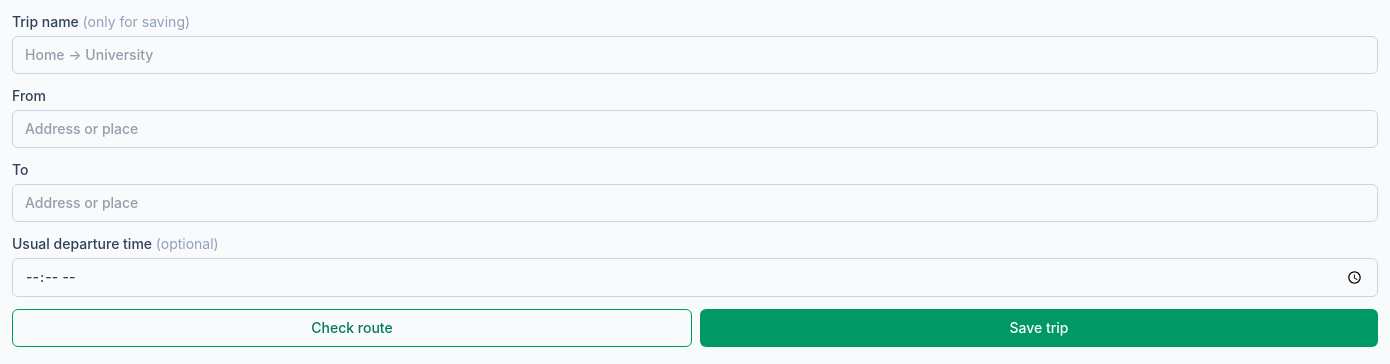
Scenario: AddTripForm › Check route (without saving) › disables both buttons while checking
The width and height of the screenshot is (1390, 364).
Type "A" into the field labelled "From" at (695, 129), box x1=12 y1=110 x2=1378 y2=148
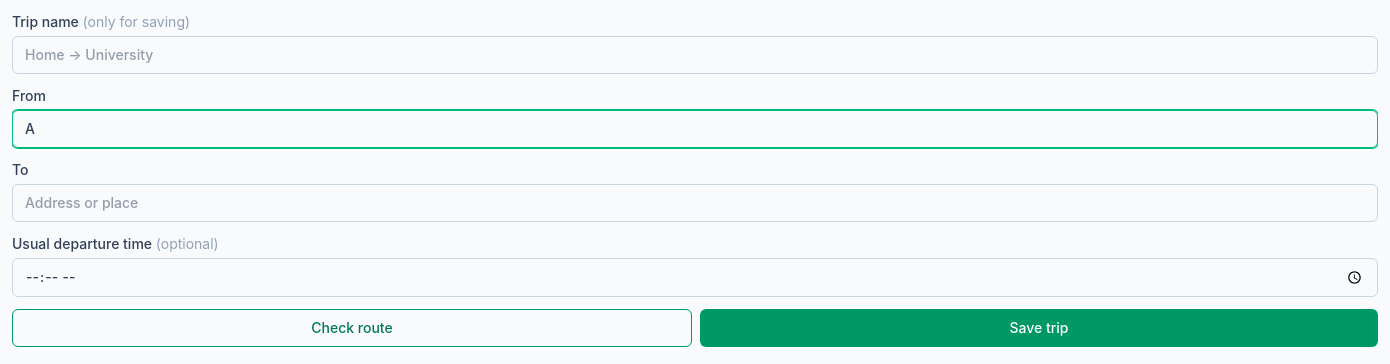
Type "B" into the field labelled "To" at (695, 203), box x1=12 y1=184 x2=1378 y2=222
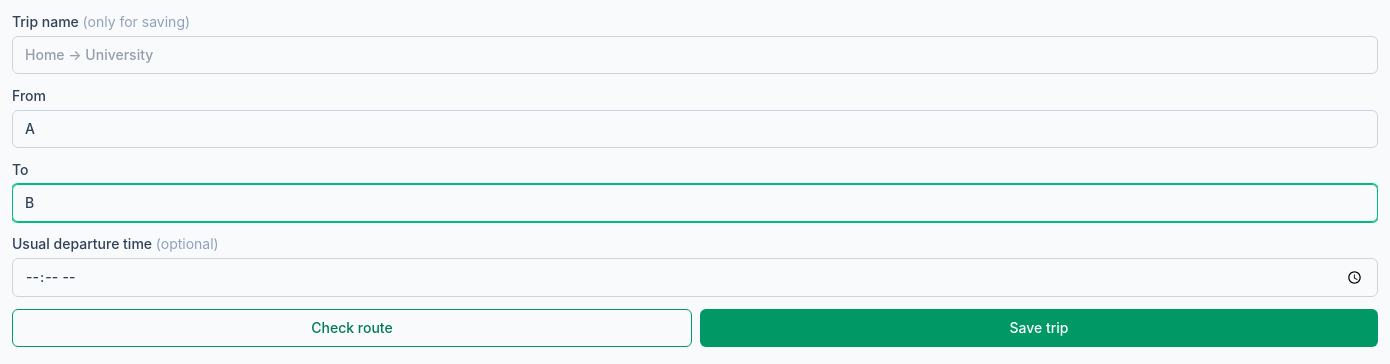
Click the button "Check route" at (352, 328), box x1=12 y1=309 x2=692 y2=347
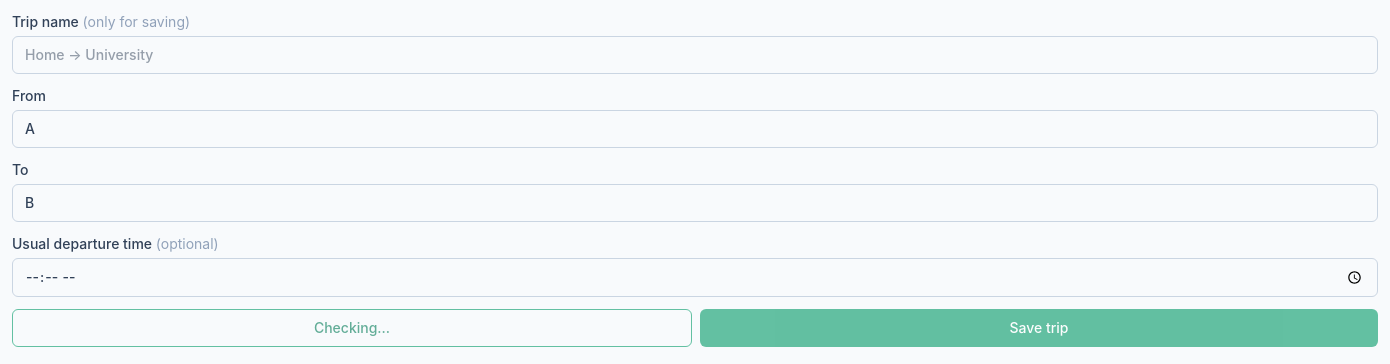
Expected: the button "Checking…" is disabled, x1=12 y1=309 x2=692 y2=347
Expected: the button "Save trip" is disabled, x1=700 y1=309 x2=1378 y2=347
